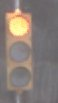Red: (3, 7, 36, 102)
